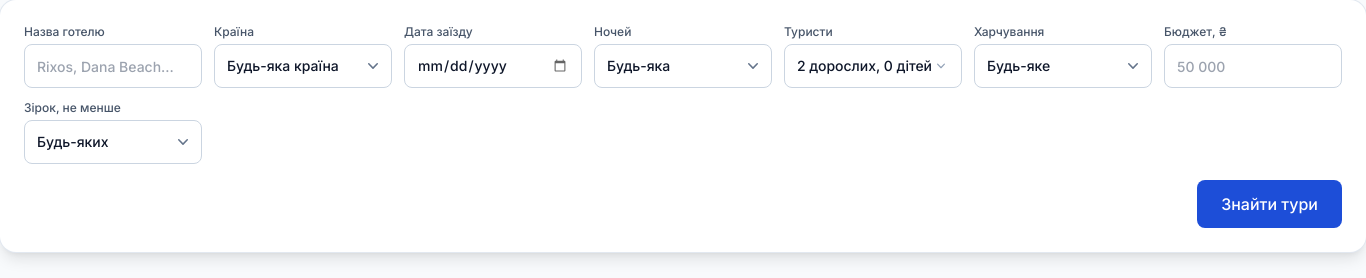
it: SearchForm › updates selected country value and submit copy after choosing a country
Select "Туреччина (12)" in the dropdown named "Країна призначення": (303, 66) [214, 44, 392, 88]
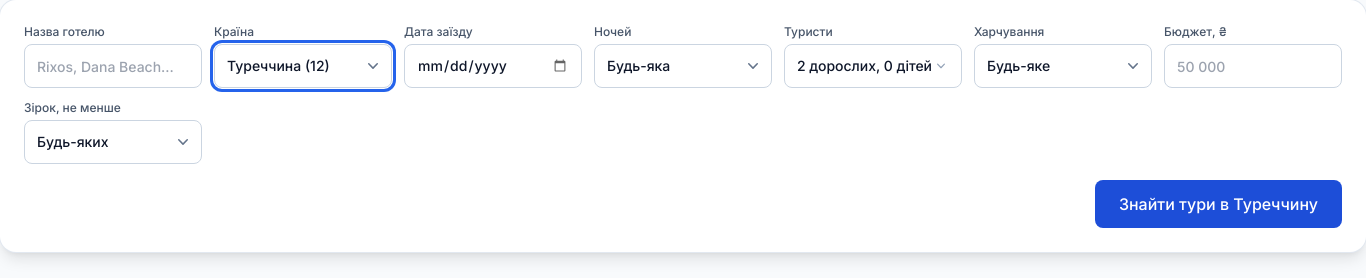
Result: the button "Знайти тури в Туреччину" is shown at [1095, 180, 1342, 228]
